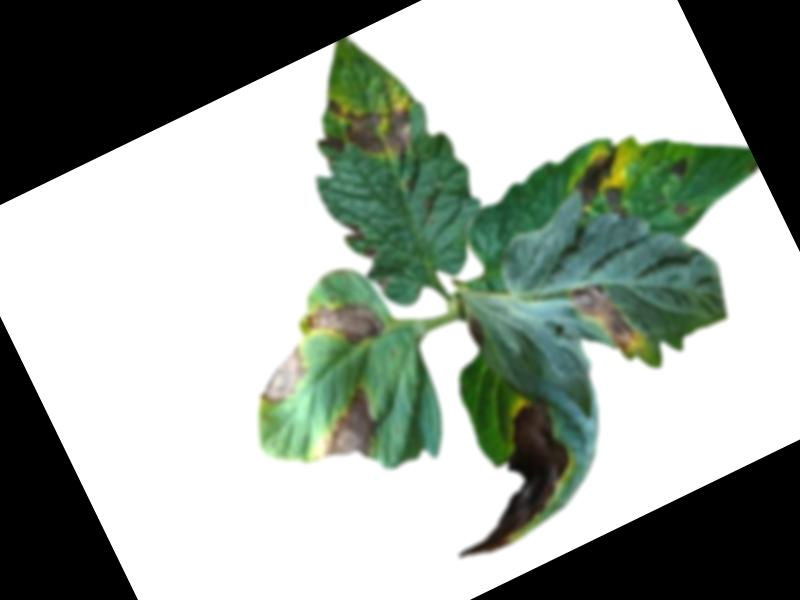Early_blight: (410, 395, 596, 568), (325, 73, 426, 178), (297, 387, 391, 480), (565, 274, 646, 373), (300, 284, 388, 364), (564, 145, 636, 210), (250, 344, 318, 406), (340, 216, 377, 264), (600, 181, 634, 223), (317, 129, 347, 160), (667, 157, 692, 181), (671, 203, 691, 222)
